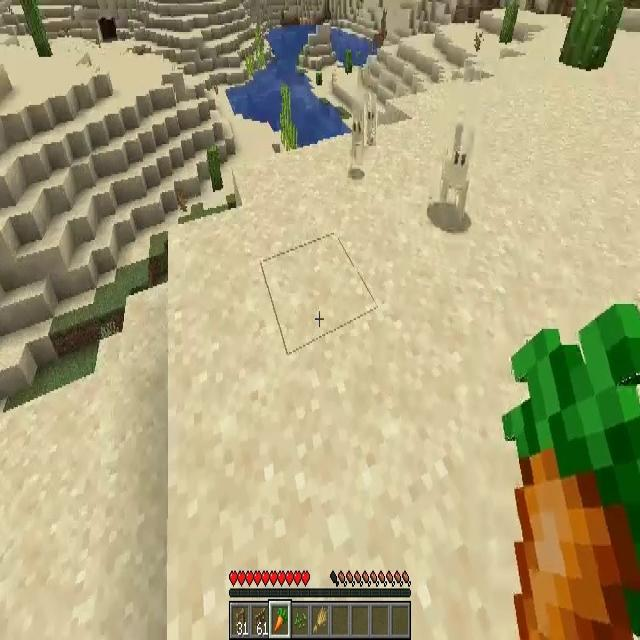rabbit: (439, 126, 474, 220), (364, 94, 376, 146), (353, 110, 363, 167)
